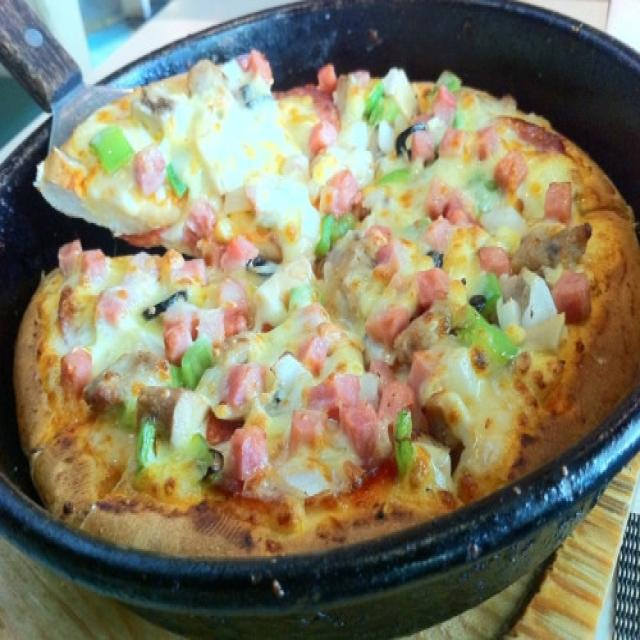Wet Waste: (10, 41, 640, 570)
